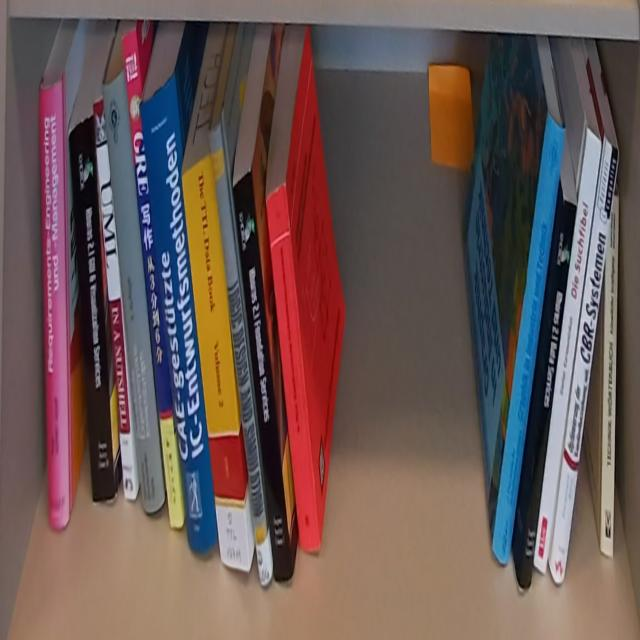Book Spine: (141, 74, 219, 553), (492, 112, 566, 564), (122, 29, 184, 531), (534, 128, 603, 576), (550, 134, 618, 585), (209, 121, 272, 587), (183, 152, 249, 574), (103, 65, 165, 512), (233, 168, 294, 583), (519, 202, 577, 591), (267, 179, 322, 553), (70, 115, 116, 502), (94, 98, 137, 504), (40, 78, 71, 527), (600, 194, 618, 558)
